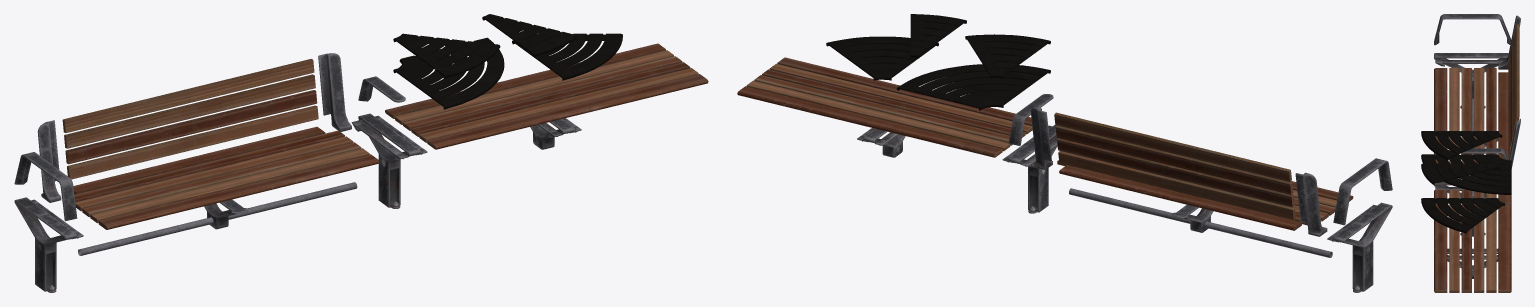
File: modular_street_seating.glb
3 views of the same model, side by side, from view 1: azimuth 30°, elevation 25°; view 2: azimuth 150°, elevation 25°; view 3: azimuth 270°, elevation 25° (orthographic). The views are drawn at different scales.
Visible parts, largest first — view 1: seat_back, seat, seat_bench, connector_90, legs_double, connector_45, legs_single, connector_60, crossbar, connector_30, back_support_l, arm_rest_01 (+4 smaller); view 2: seat_bench, seat_back, connector_90, seat, connector_60, legs_single, connector_45, crossbar, legs_double, connector_30, arm_rest_01, back_support_r (+4 smaller); view 3: seat_bench, seat, connector_90, connector_60, connector_45, seat_back, connector_30, legs_single, arm_rest_01, arm_rest_02, back_support_r, legs_double (+3 smaller).
Part boxes in pixels (box(x1,y1,x2,y2)): seat_back: box(62, 59, 318, 179); seat: box(73, 126, 379, 229); seat_bench: box(385, 43, 708, 149); connector_90: box(393, 37, 504, 109); legs_double: box(351, 113, 427, 208); connector_45: box(393, 33, 500, 78); legs_single: box(14, 197, 83, 292); connector_60: box(512, 33, 622, 80); crossbar: box(78, 182, 357, 255); connector_30: box(482, 14, 577, 56); back_support_l: box(318, 53, 351, 131); arm_rest_01: box(14, 152, 77, 221); seat_bench: box(737, 57, 1032, 157); seat_back: box(1054, 112, 1295, 220); connector_90: box(896, 64, 1050, 110); seat: box(1057, 160, 1353, 230); connector_60: box(826, 36, 938, 80); legs_single: box(1327, 202, 1392, 292); connector_45: box(965, 34, 1050, 78); crossbar: box(1069, 188, 1332, 257); legs_double: box(1002, 125, 1058, 213); connector_30: box(910, 14, 966, 57); arm_rest_01: box(1333, 158, 1392, 225); back_support_r: box(1295, 172, 1327, 236); seat_bench: box(1434, 189, 1511, 292); seat: box(1434, 68, 1508, 163); connector_90: box(1421, 154, 1511, 194); connector_60: box(1421, 198, 1505, 233); connector_45: box(1421, 131, 1502, 160); seat_back: box(1508, 24, 1519, 157); connector_30: box(1421, 163, 1500, 185); legs_single: box(1434, 53, 1508, 108); arm_rest_01: box(1434, 14, 1511, 45); arm_rest_02: box(1461, 148, 1508, 159); back_support_r: box(1498, 15, 1520, 69); legs_double: box(1434, 181, 1486, 236).
Size of the model in its own units: 4.34 by 0.95 by 0.7704.
Materials: 4 (4 with a texture image).
